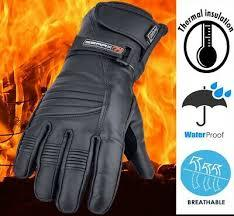gloves: (14, 1, 168, 215)
